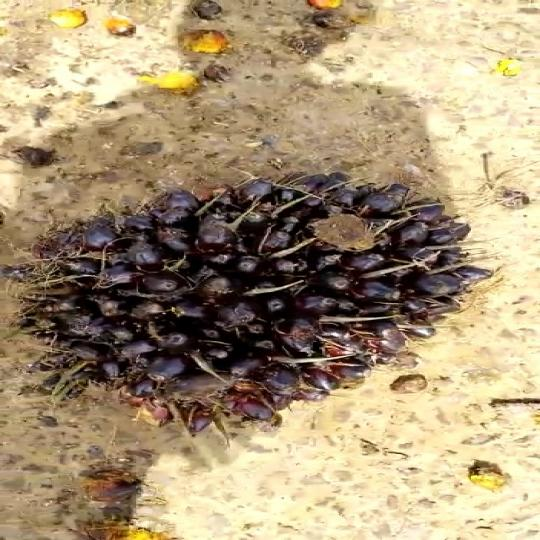mentah: (17, 150, 463, 424)
